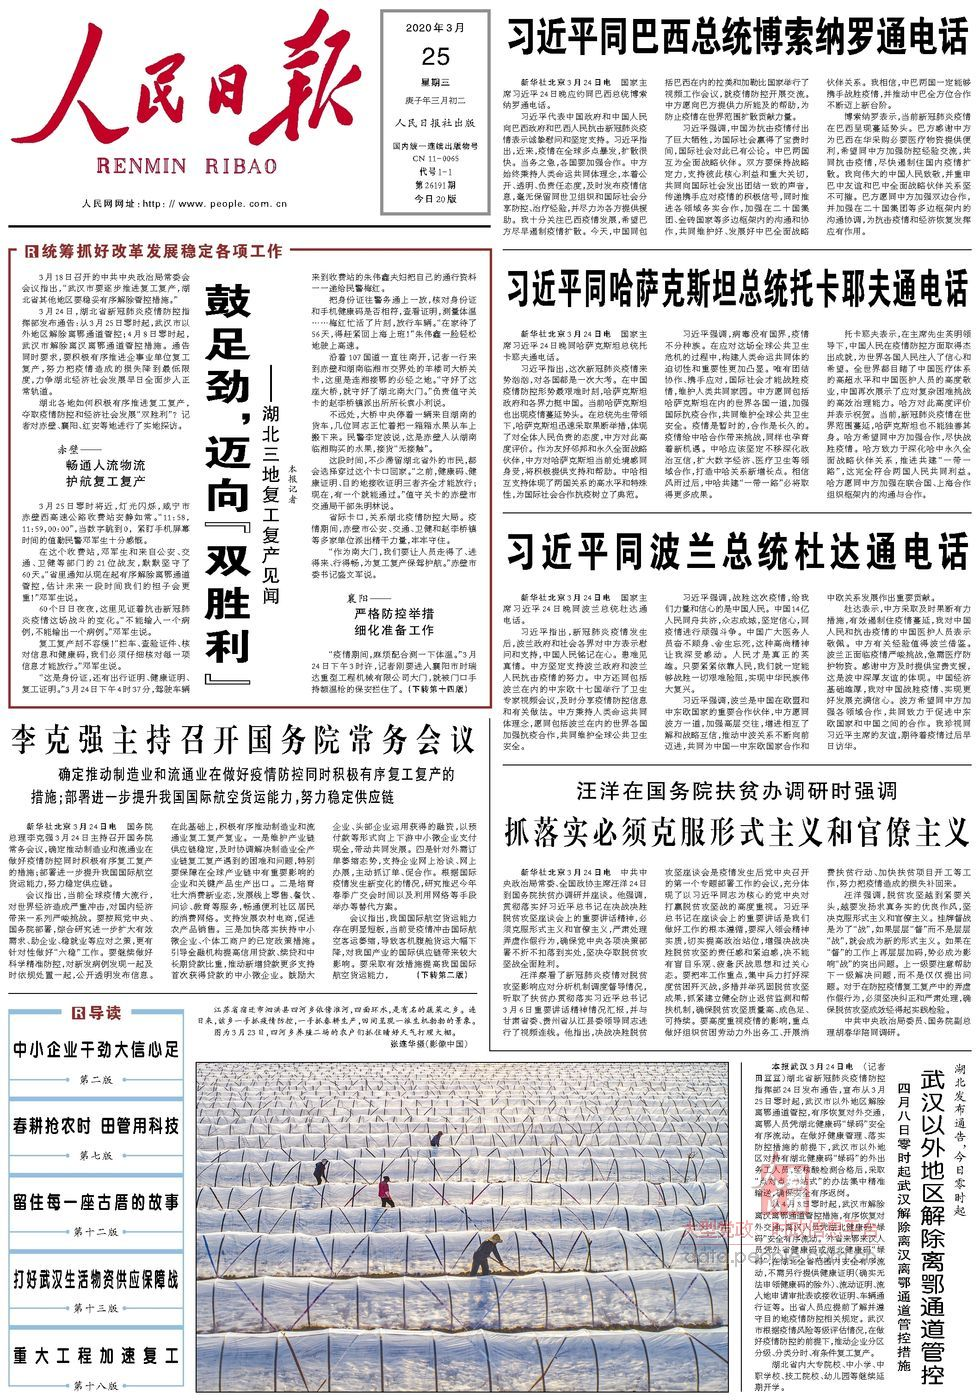pic: (192, 1056, 737, 1400)
